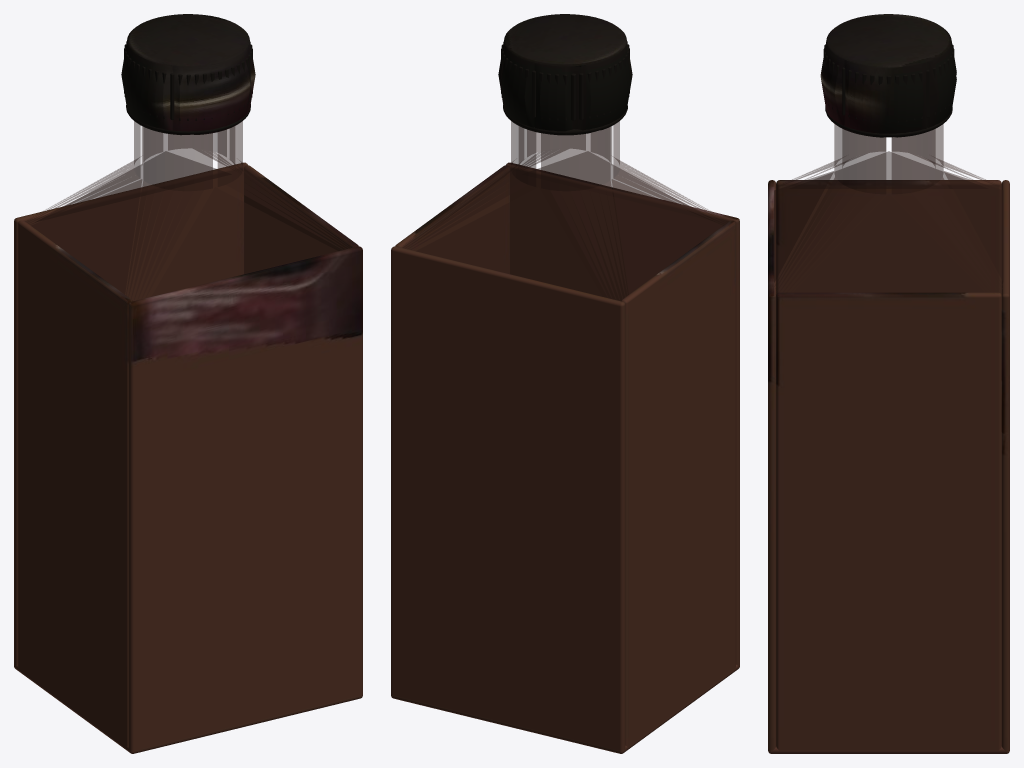
3 views of the same model, side by side, from view 1: azimuth 30°, elevation 25°; view 2: azimuth 150°, elevation 25°; view 3: azimuth 270°, elevation 25° (orthographic).
Visible parts, largest first — view 1: body_wall_1, body_wall_3, hollow square-to-neck shoulder, body_wall_2, removable closure, body_wall_4, body_wall_0; view 2: body_wall_2, body_wall_3, hollow square-to-neck shoulder, body_wall_1, removable closure, body_wall_4, body_wall_0; view 3: body_wall_4, hollow square-to-neck shoulder, body_wall_3, removable closure, body_wall_2, body_wall_1, body_wall_0, closure lower bead.
Boxes of the visible parts, x1,y1,x2,y2 form: body_wall_1: [128, 246, 362, 753]; body_wall_3: [18, 220, 132, 749]; hollow square-to-neck shoulder: [28, 121, 347, 300]; body_wall_2: [14, 162, 247, 665]; removable closure: [121, 14, 255, 135]; body_wall_4: [244, 165, 358, 273]; body_wall_0: [14, 664, 362, 752]; body_wall_2: [391, 246, 625, 753]; body_wall_3: [621, 220, 735, 749]; hollow square-to-neck shoulder: [406, 121, 725, 300]; body_wall_1: [506, 162, 739, 665]; removable closure: [498, 14, 632, 135]; body_wall_4: [395, 165, 509, 273]; body_wall_0: [391, 664, 739, 753]; body_wall_4: [776, 292, 1001, 750]; hollow square-to-neck shoulder: [774, 124, 1003, 292]; body_wall_3: [776, 180, 1001, 294]; removable closure: [820, 14, 956, 137]; body_wall_2: [1001, 180, 1009, 753]; body_wall_1: [768, 180, 776, 752]; body_wall_0: [768, 746, 1009, 753]; closure lower bead: [825, 106, 952, 136].
Size of the model in its own units: 0.0641 by 0.1697 by 0.0566.
Materials: 8 (6 with a texture image).
